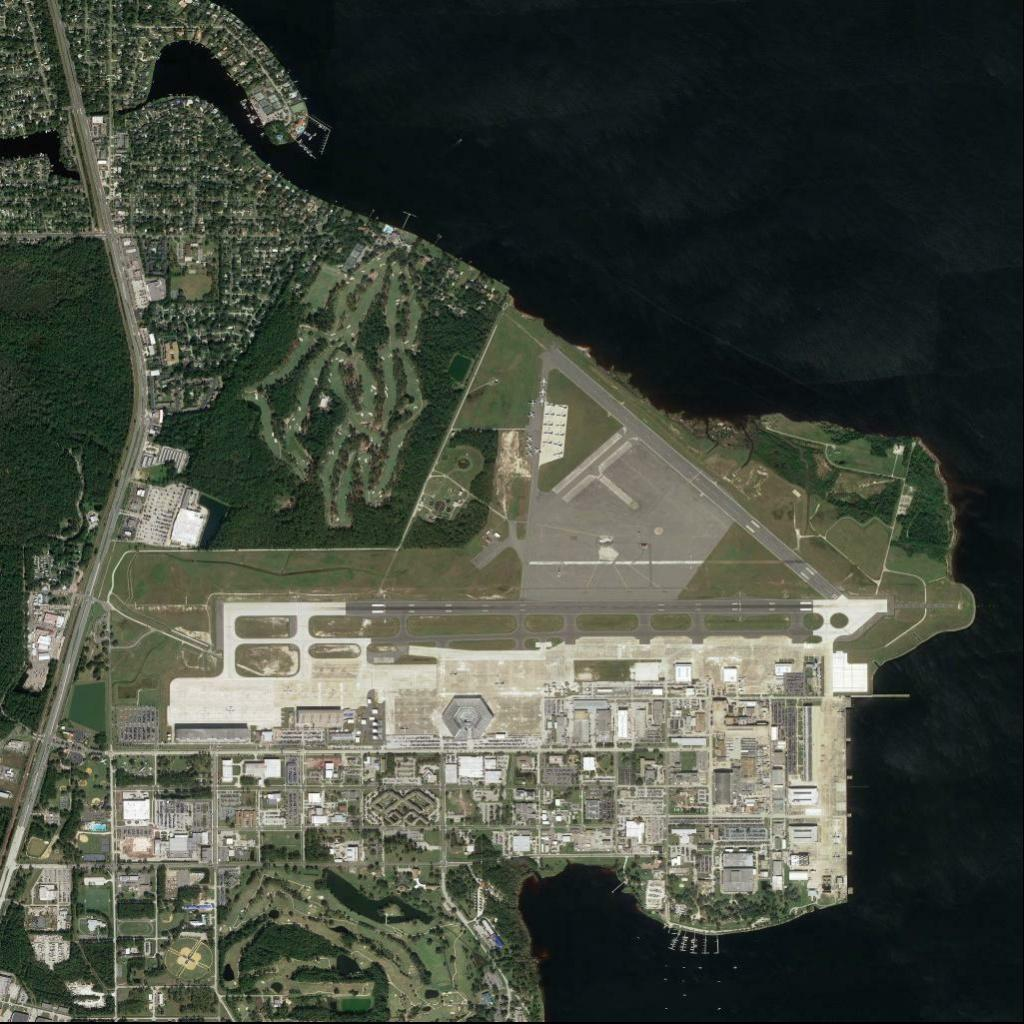harbor: (668, 929, 684, 952), (679, 930, 691, 953), (702, 935, 711, 956), (690, 933, 698, 956), (714, 936, 721, 956)
